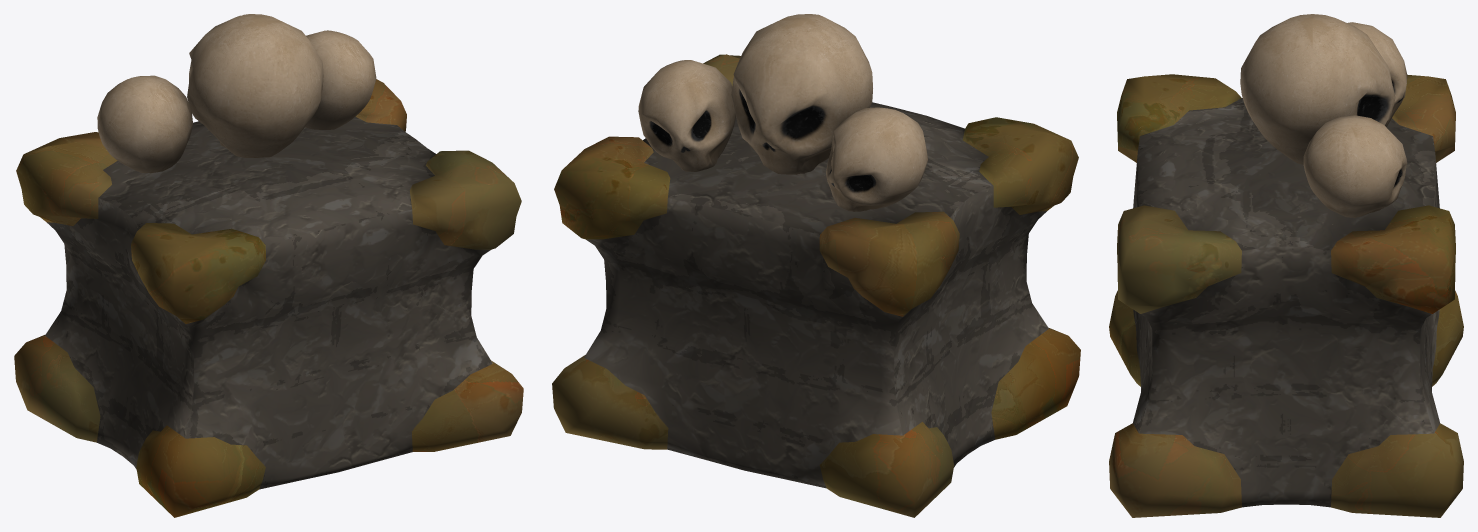
File: SM_PRP_SkullStand.fbx
3 views of the same model, side by side, from view 1: azimuth 30°, elevation 25°; view 2: azimuth 150°, elevation 25°; view 3: azimuth 270°, elevation 25° (orthographic). The views are drawn at different scales.
Visible parts, largest first — view 1: m_SkullStand_low; view 2: m_SkullStand_low; view 3: m_SkullStand_low.
Boxes of the visible parts, box(x1,y1,x2,y2) form: m_SkullStand_low: box(14, 14, 523, 517); m_SkullStand_low: box(552, 14, 1080, 517); m_SkullStand_low: box(1109, 14, 1463, 517).
Size of the model in its own units: 390 by 417 by 326.
1 material, 1 textured.
